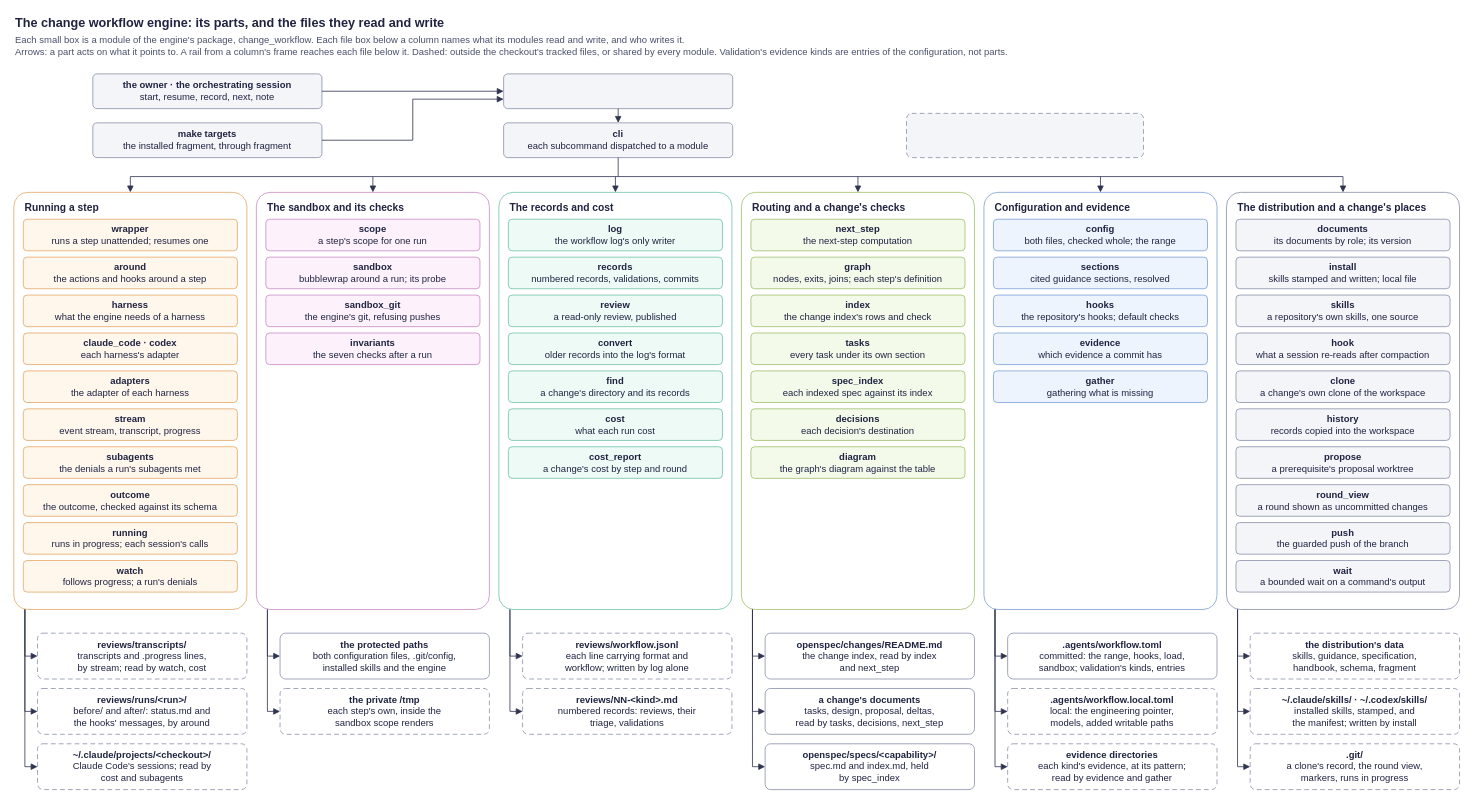
Image size: 1473x803. Some labels were removed from this diagram. The box of each missing label's shape, as (x1, y1, x2, y2) in pixels:
change-workflow the installed command; install, --version: (503, 73, 733, 109)
common what every module shares: the repository, the engine's error, the clock: (906, 113, 1144, 158)
